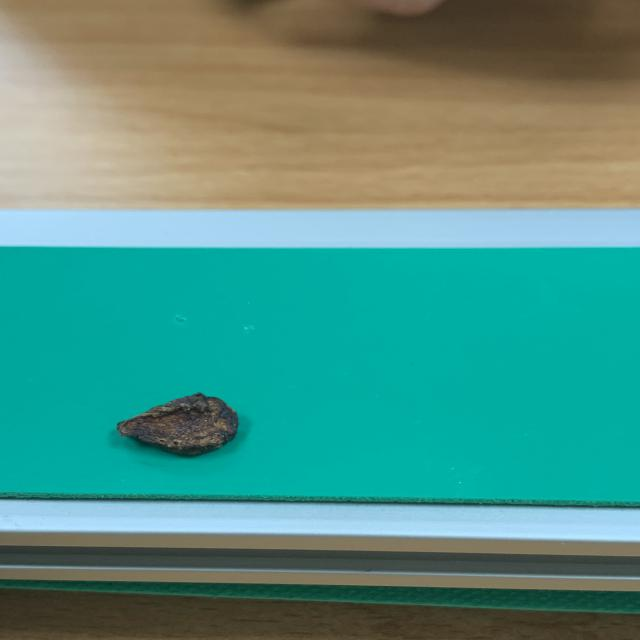Flat_cocoabeans: (8, 316, 450, 528)
